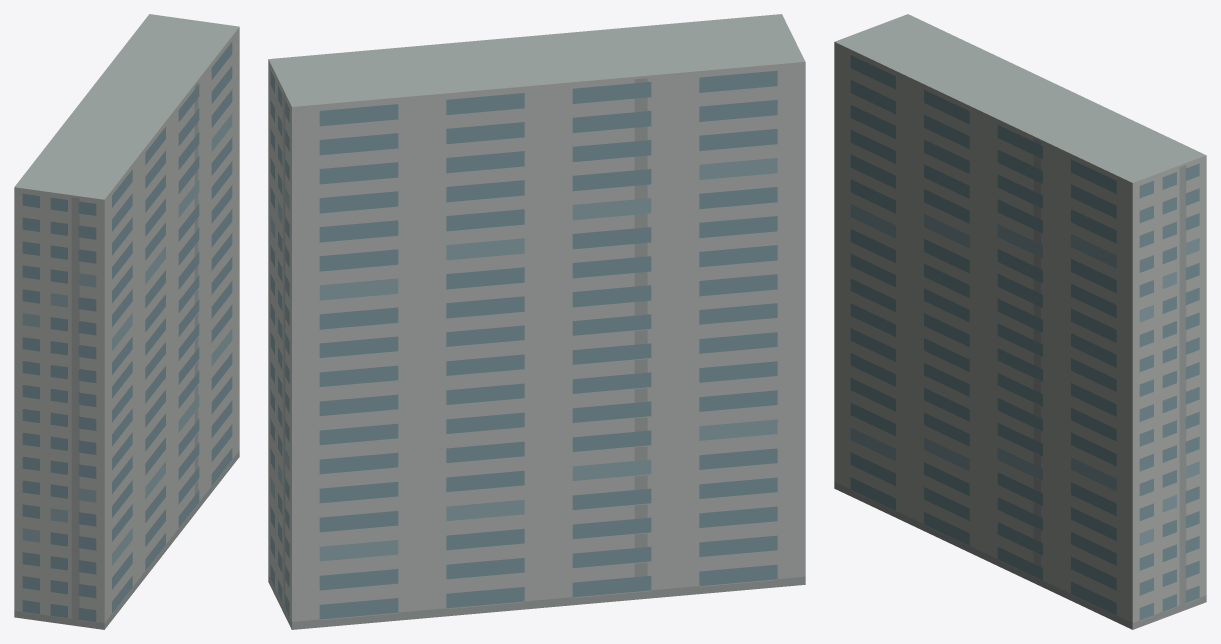
The model's file is residential-d58b6a7e-0560-4018-9262-e4a4766bc492.glb.
The picture shows the model from 3 angles, left to right: view 1: azimuth 30°, elevation 25°; view 2: azimuth 150°, elevation 25°; view 3: azimuth 270°, elevation 25°; orthographic projection. The views are drawn at different scales.
Parts seen in each view (by area): view 1: residential-d58b6a7e-0560-4018-9262-e4a4766bc492.tmp; view 2: residential-d58b6a7e-0560-4018-9262-e4a4766bc492.tmp; view 3: residential-d58b6a7e-0560-4018-9262-e4a4766bc492.tmp.
Part boxes in pixels (x1,y1,x2,y2): residential-d58b6a7e-0560-4018-9262-e4a4766bc492.tmp: (14,14,239,629); residential-d58b6a7e-0560-4018-9262-e4a4766bc492.tmp: (268,14,805,629); residential-d58b6a7e-0560-4018-9262-e4a4766bc492.tmp: (834,14,1206,629).
Size of the model in its own units: 43.02 by 53 by 40.01.
